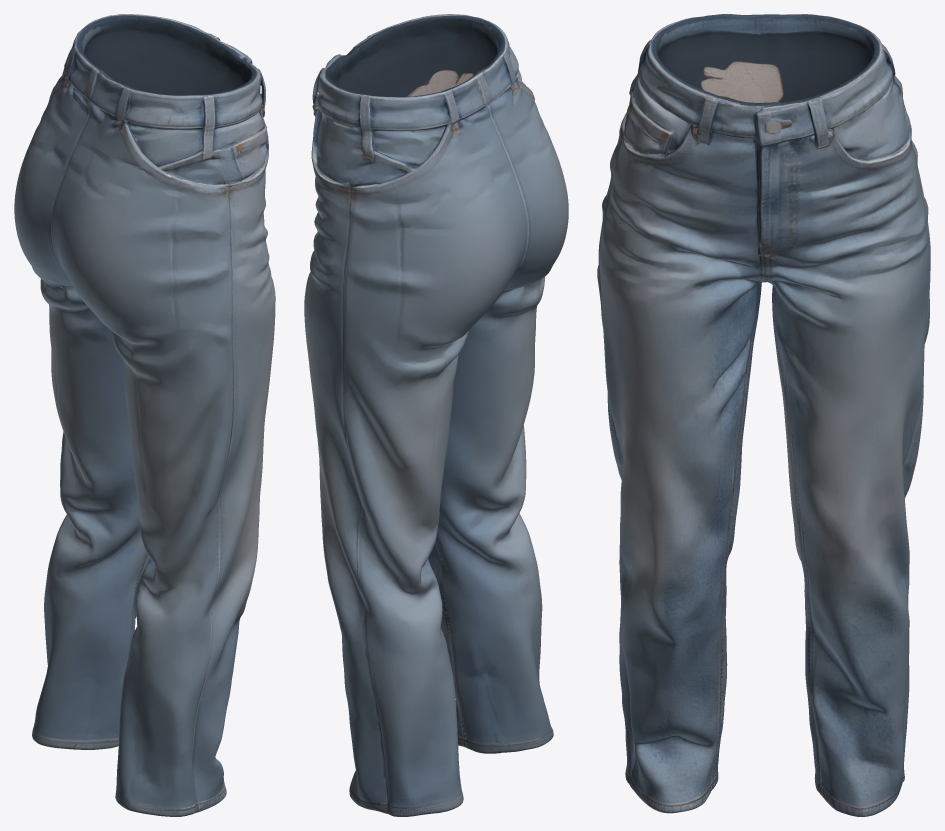
Rendered from straight.glb.
3 views of the same model, side by side, from view 1: azimuth 30°, elevation 25°; view 2: azimuth 150°, elevation 25°; view 3: azimuth 270°, elevation 25° (orthographic). The views are drawn at different scales.
Parts seen in each view (by area): view 1: tripo_node_6d3a4360-f5e3-4ce2-a8ac-b663244de4a7; view 2: tripo_node_6d3a4360-f5e3-4ce2-a8ac-b663244de4a7; view 3: tripo_node_6d3a4360-f5e3-4ce2-a8ac-b663244de4a7.
Boxes of the visible parts, left/top/right/bottom form: tripo_node_6d3a4360-f5e3-4ce2-a8ac-b663244de4a7: left=14, top=14, right=275, bottom=816; tripo_node_6d3a4360-f5e3-4ce2-a8ac-b663244de4a7: left=304, top=14, right=568, bottom=816; tripo_node_6d3a4360-f5e3-4ce2-a8ac-b663244de4a7: left=597, top=14, right=930, bottom=816.
Size of the model in its own units: 0.3018 by 1 by 0.3966.
1 material, 1 textured.
